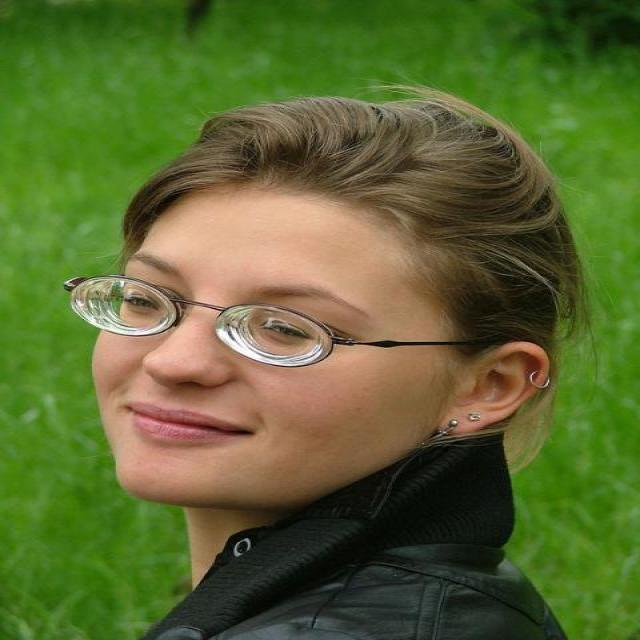glasses: (64, 274, 389, 371)
